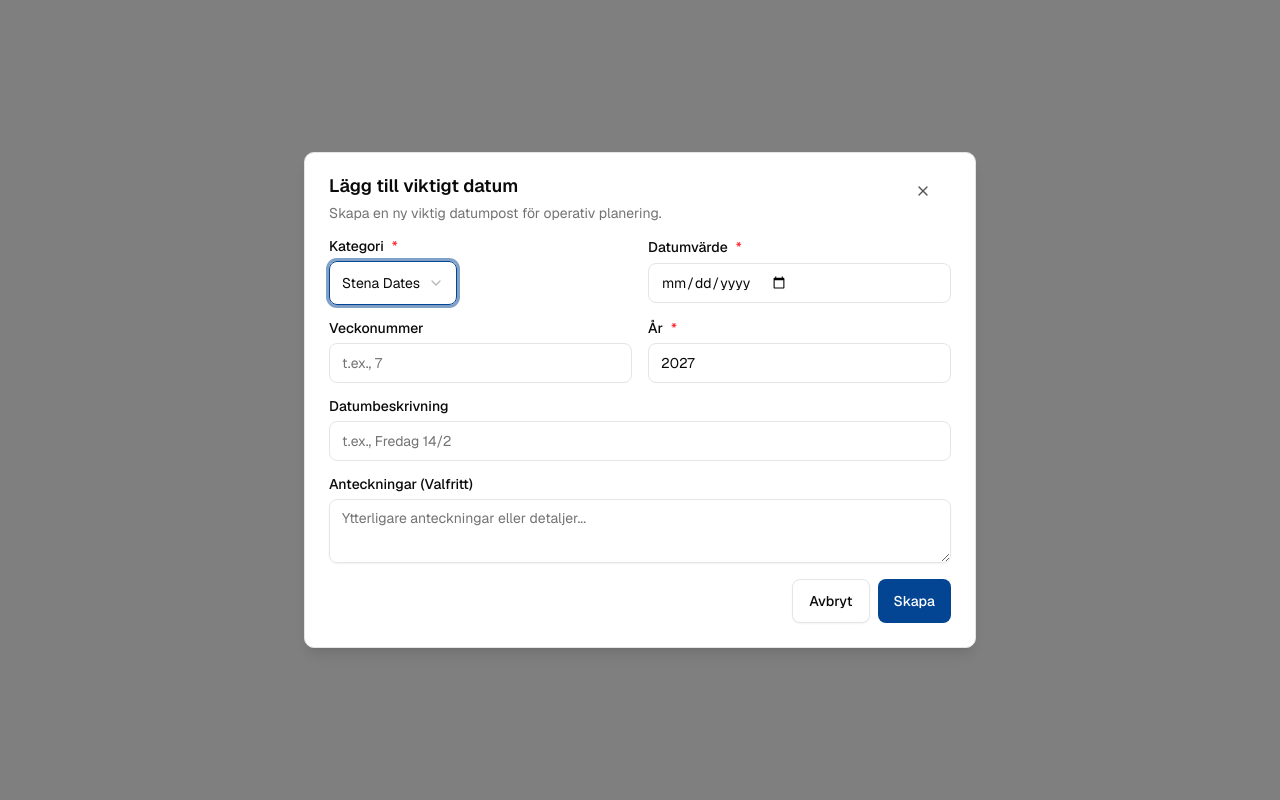
Important Dates Form Field Order › AC3: Important Dates Form Field Order Tests › should only show time picker for PE3 category
Check: the field labelled "tid" is not shown
// Select PE3 category
Click the dropdown named "kategori" at (393, 283), box x1=329 y1=261 x2=457 y2=305
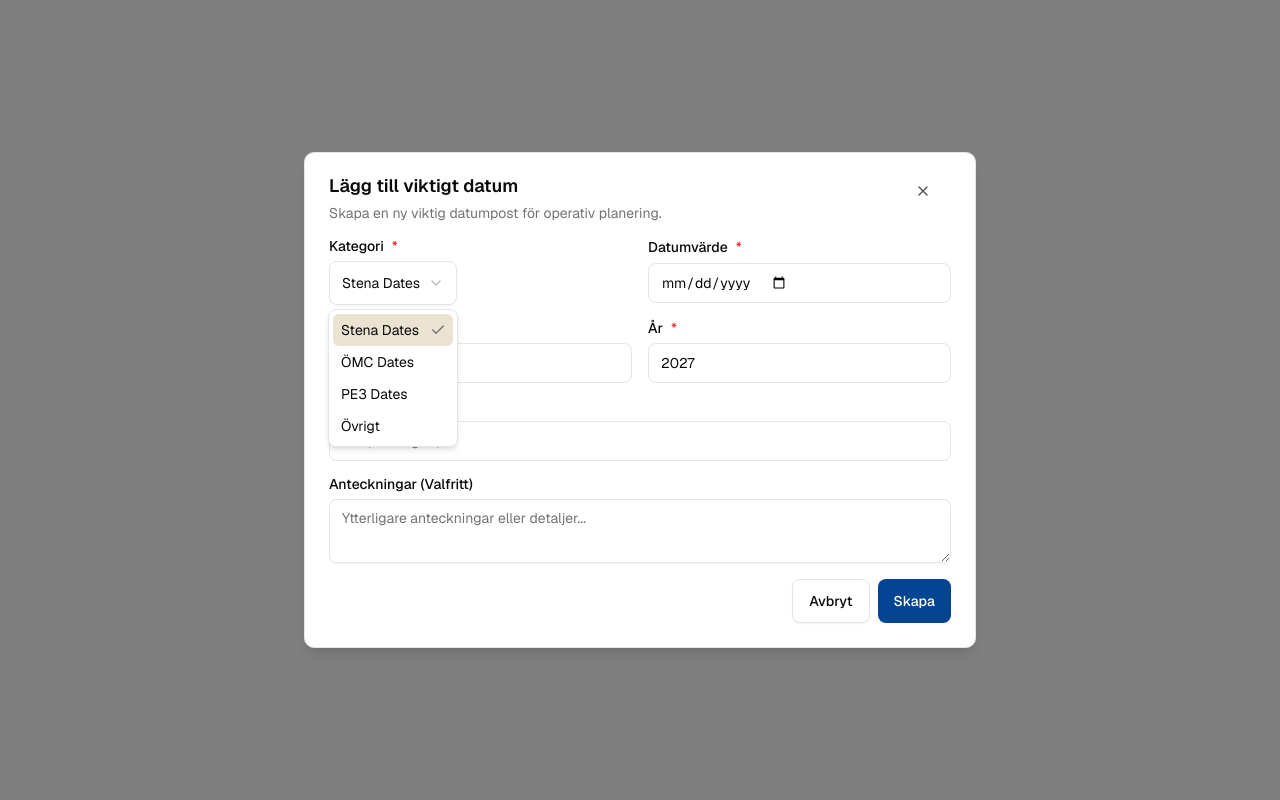
Click the option "PE3 Dates" at (374, 394), box x1=341 y1=385 x2=408 y2=403
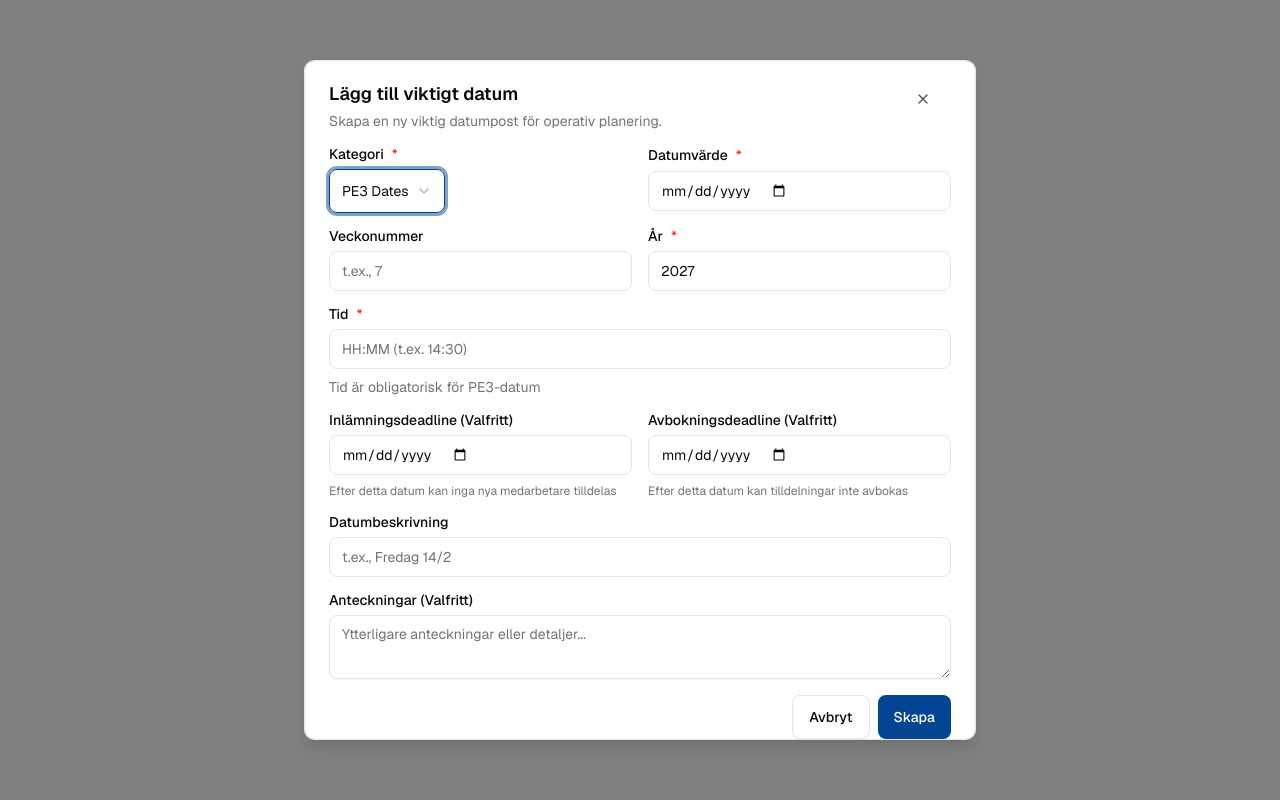
Check: the field labelled "Tid *" is shown, box x1=329 y1=329 x2=951 y2=369
// Switch to another category
Click the dropdown named "kategori" at (387, 191), box x1=329 y1=169 x2=446 y2=213
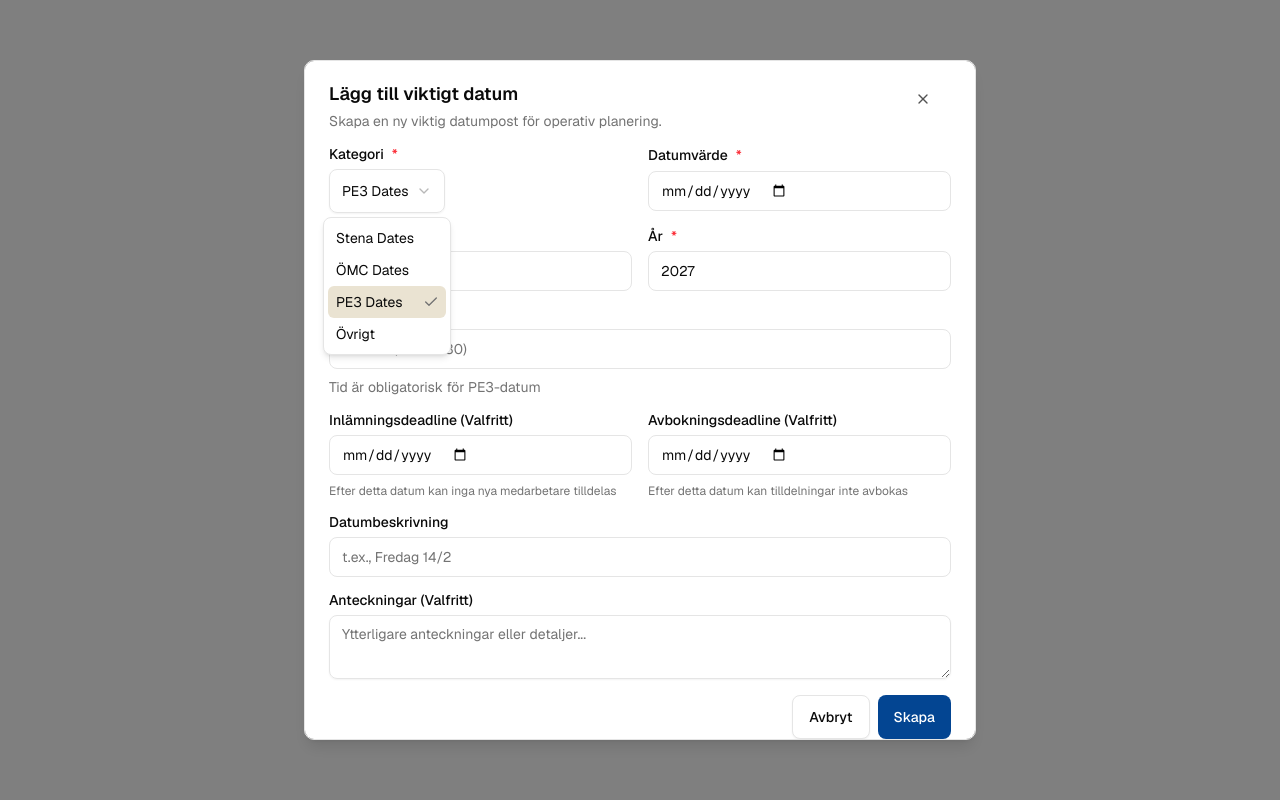
Click the option "Stena Dates" at (375, 238), box x1=336 y1=229 x2=414 y2=247
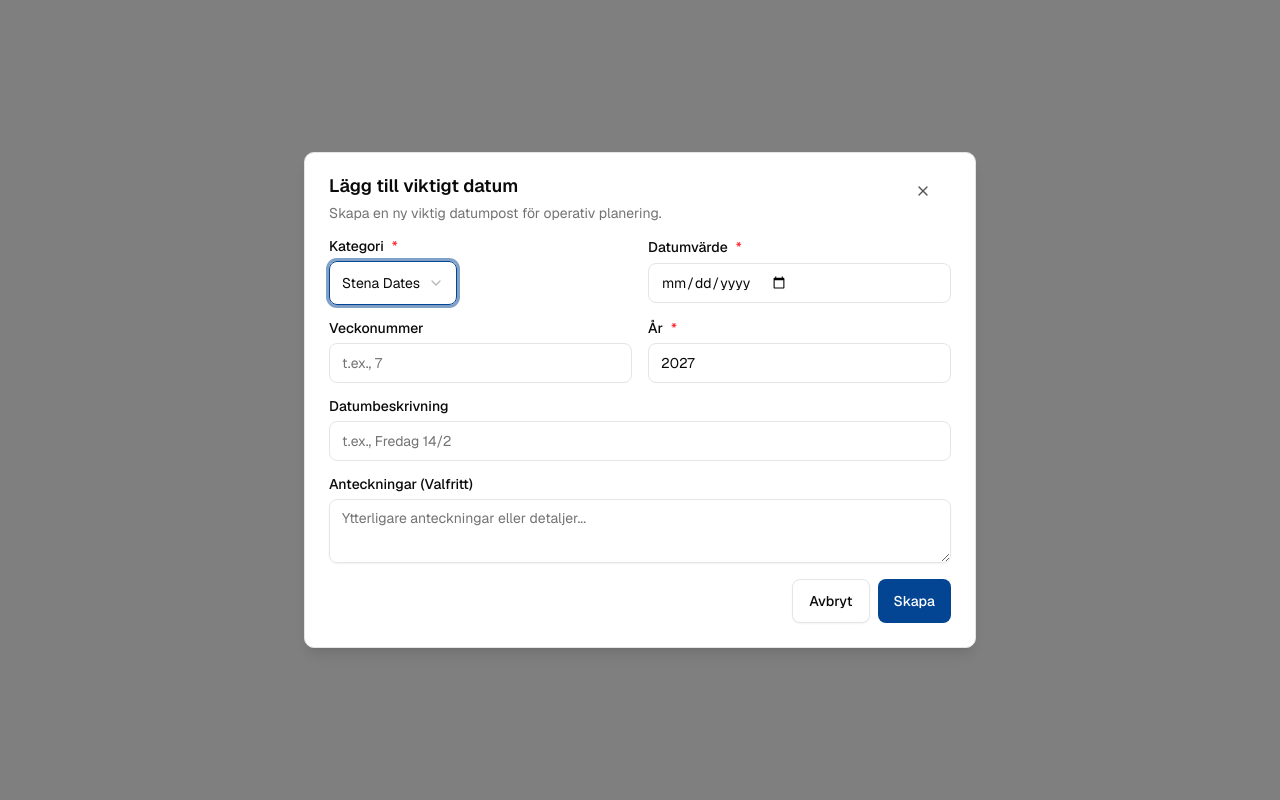
Check: the label labelled "Tid" is gone
